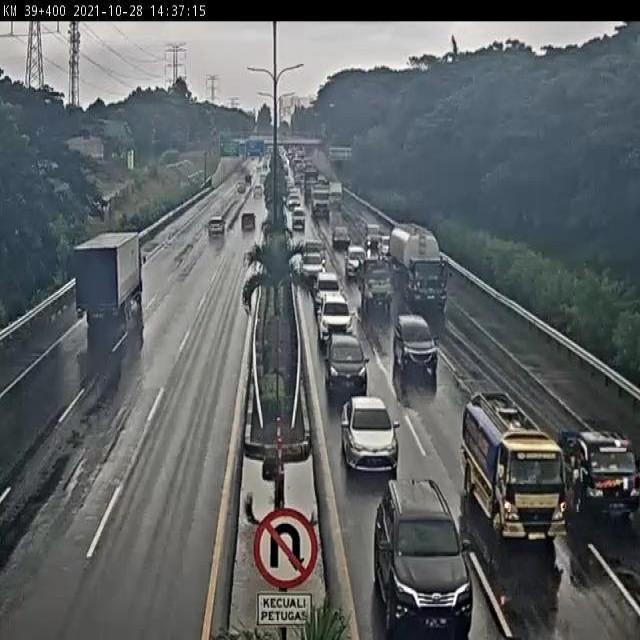big truck: (73, 230, 146, 322), (388, 222, 448, 310), (310, 182, 332, 218)
car: (373, 475, 473, 636), (339, 395, 397, 472), (393, 316, 439, 376), (324, 332, 367, 395), (319, 292, 352, 336), (298, 248, 323, 284), (311, 265, 337, 299), (343, 243, 367, 277), (209, 216, 227, 240), (364, 222, 381, 246), (330, 226, 348, 246), (301, 230, 322, 247), (241, 211, 257, 233), (291, 205, 304, 228)
small truck: (461, 390, 568, 542), (556, 425, 640, 523), (359, 260, 393, 313)
